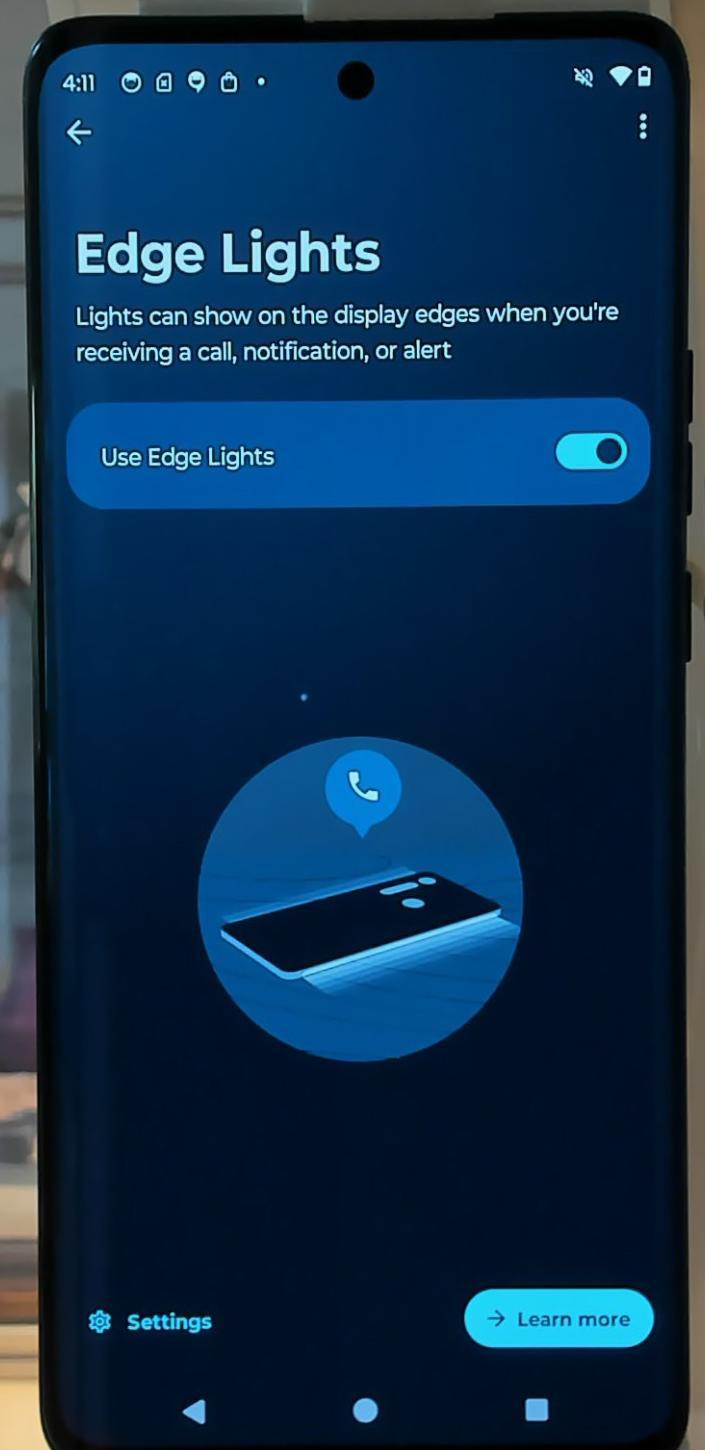Checkbox: (83, 415, 639, 479)
